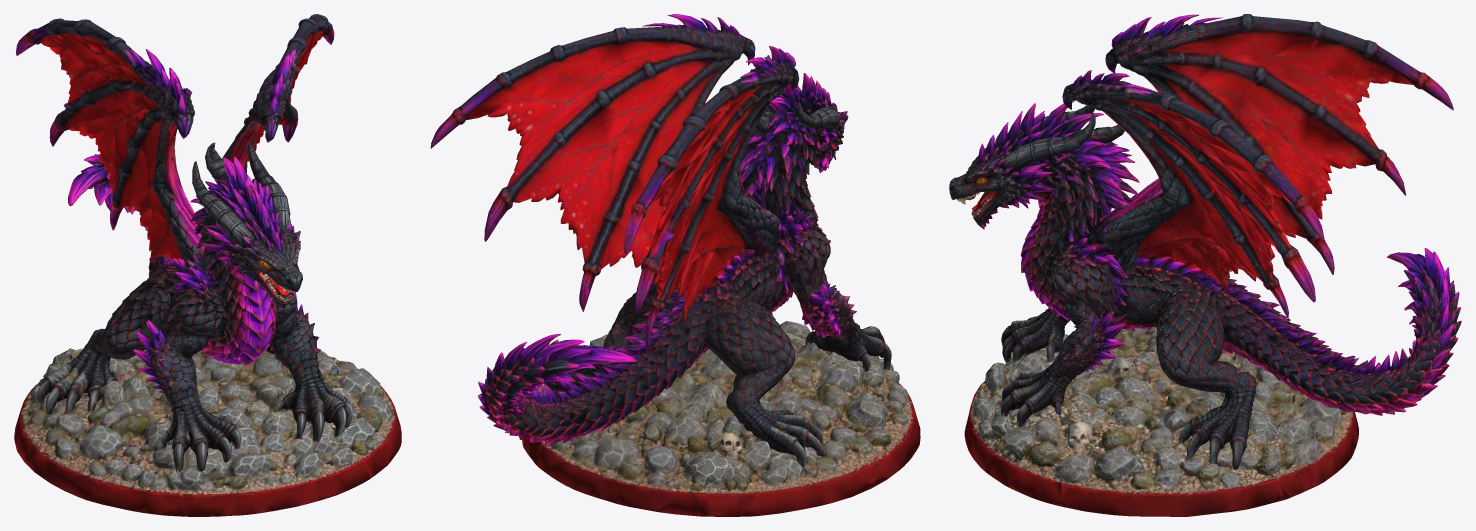
The model's file is blackDragon.glb.
3 views of the same model, side by side, from view 1: azimuth 30°, elevation 25°; view 2: azimuth 150°, elevation 25°; view 3: azimuth 270°, elevation 25° (orthographic). The views are drawn at different scales.
Bounding box in the file's own units: 1.64 × 1.62 × 1.9.
1 material, 1 textured.
